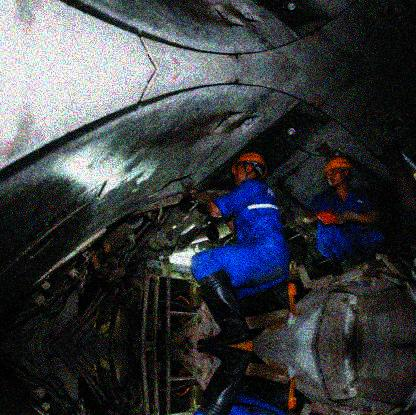helmet: (231, 152, 268, 185), (324, 157, 352, 191)
